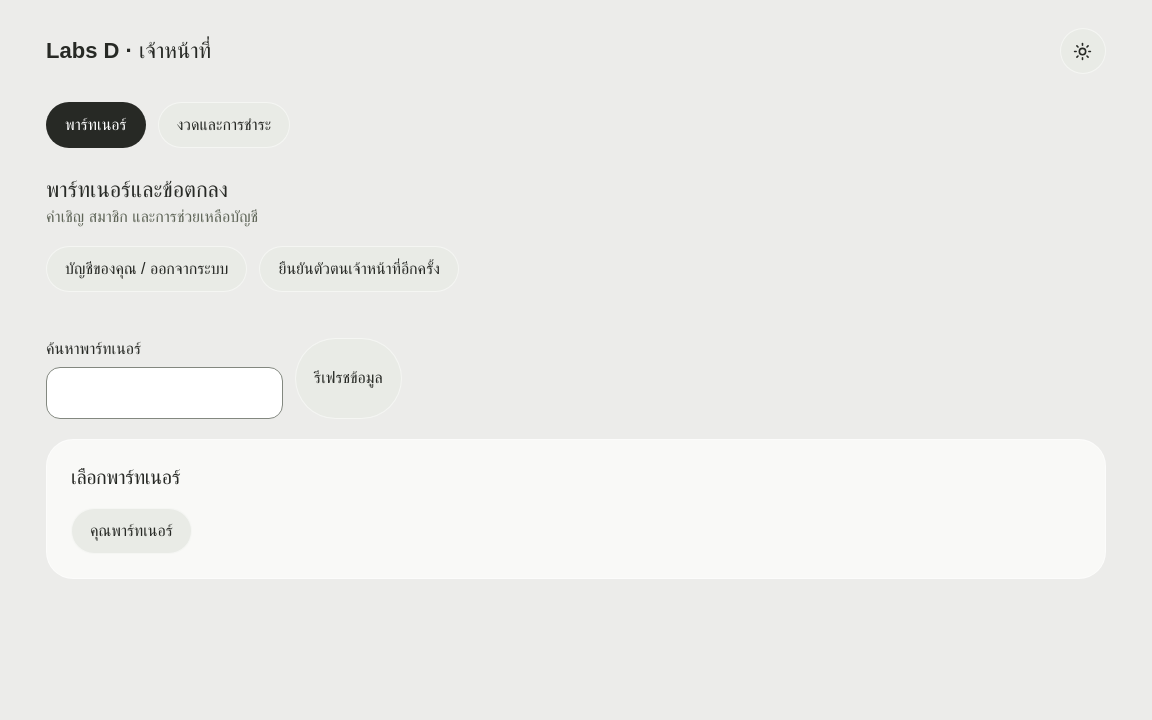
Test case: staff access UI › keeps a late prior search response out of the current results and shows empty feedback
expect the button "คุณพาร์ทเนอร์" is shown: met, box [71, 508, 192, 554]
Type "old" into the search field labelled "ค้นหาพาร์ทเนอร์".
click(165, 393); type("old")  # box [46, 367, 283, 419]
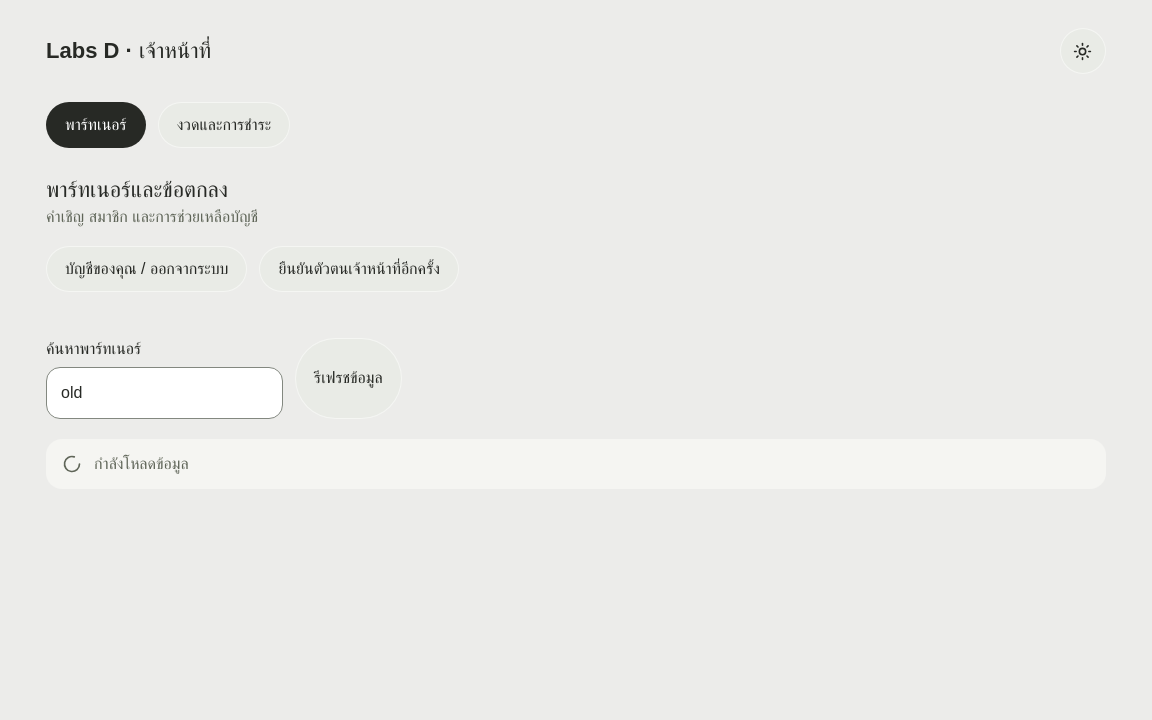
Replace the text in the search field labelled "ค้นหาพาร์ทเนอร์" with "new" at (165, 393), box [46, 367, 283, 419]
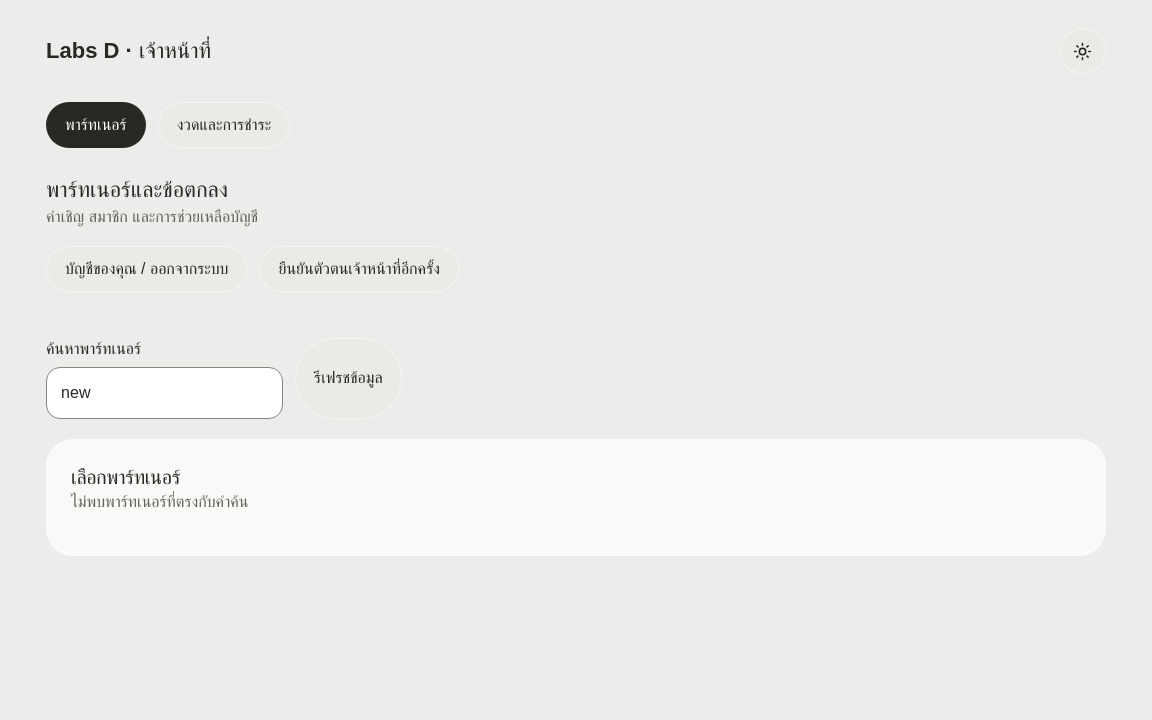
expect the button "คุณพาร์ทเนอร์" is not shown: met
expect the text "ไม่พบพาร์ทเนอร์ที่ตรงกับคำค้น" is shown: met, box [71, 493, 248, 510]
